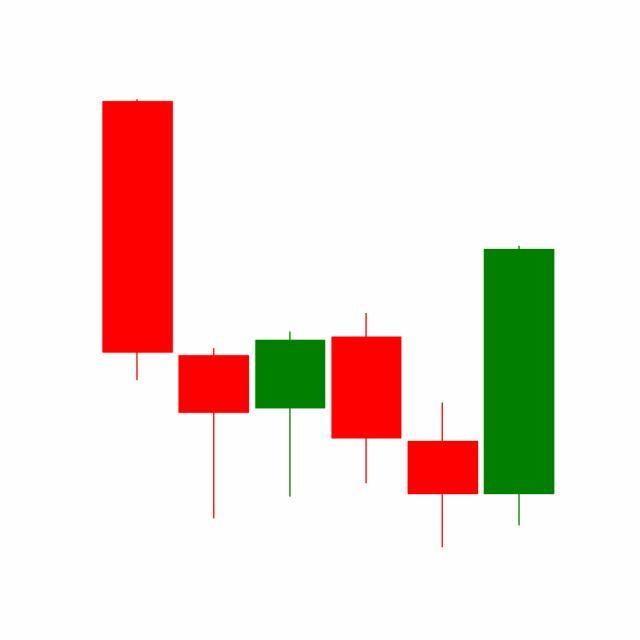Three Outside Up-Down: (252, 310, 482, 548)
